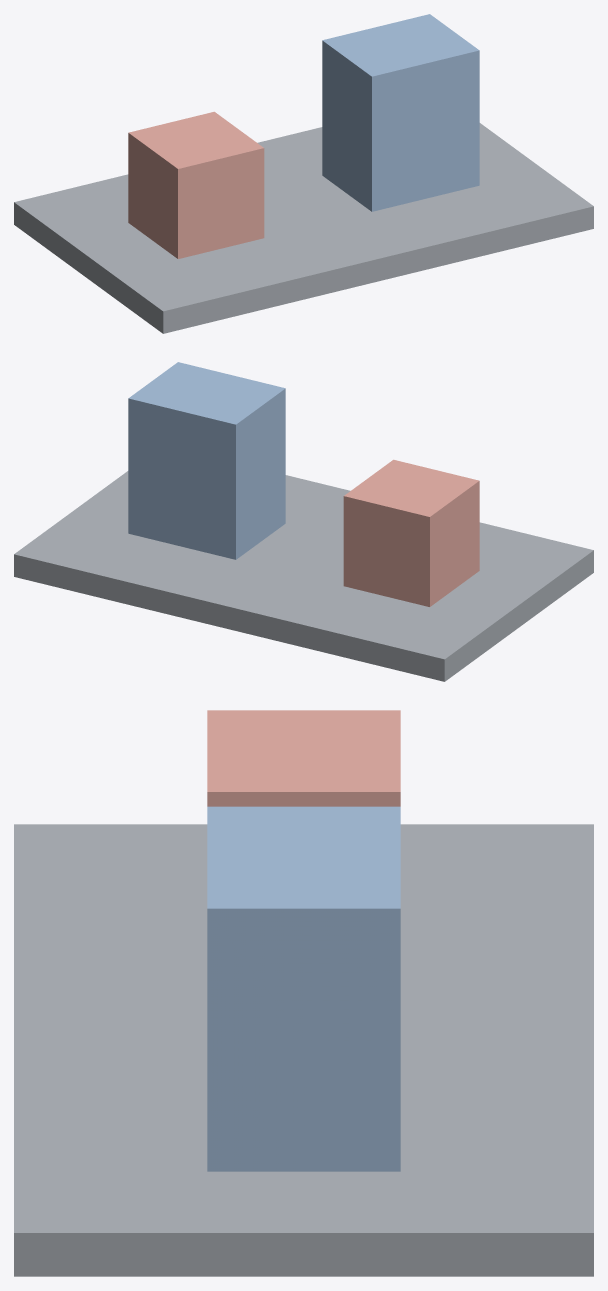
File: assembly-draco.glb
The picture shows the model from 3 angles, top to bottom: view 1: azimuth 30°, elevation 25°; view 2: azimuth 150°, elevation 25°; view 3: azimuth 270°, elevation 25°; orthographic projection. The views are drawn at different scales.
Visible parts, largest first — view 1: base, block_b, block_a; view 2: base, block_b, block_a; view 3: base, block_b, block_a.
Boxes of the visible parts, <box> form: base: <box>14,123,593,333</box>; block_b: <box>322,14,479,211</box>; block_a: <box>128,111,264,258</box>; base: <box>14,471,593,681</box>; block_b: <box>128,362,285,559</box>; block_a: <box>343,459,479,606</box>; base: <box>14,824,593,1276</box>; block_b: <box>207,806,400,1171</box>; block_a: <box>207,710,400,806</box>.
Size of the model in its own units: 40 by 14 by 24.
